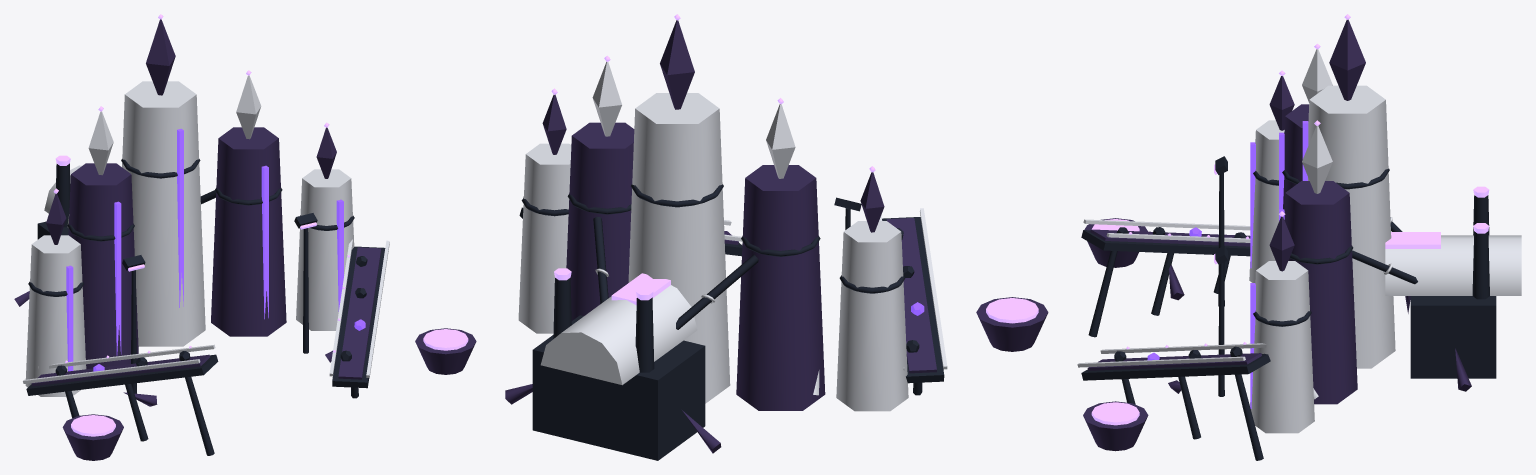
The model's file is refinery-hadron.glb.
The picture shows the model from 3 angles, left to right: view 1: azimuth 30°, elevation 25°; view 2: azimuth 150°, elevation 25°; view 3: azimuth 270°, elevation 25°; orthographic projection. The views are drawn at different scales.
Visible parts, largest first — view 1: silo_0_c, silo_1_r, silo_1_l, silo_2_l, silo_2_r, conveyor_belt_r, conveyor_bed_l, conveyor_bed_r, intake_hopper_r, intake_hopper_l, silo_tip_0_c, conveyor_belt_l (+20 smaller); view 2: silo_0_c, silo_1_l, crusher_house, silo_2_l, silo_1_r, crusher_cowl, silo_2_r, conveyor_belt_l, intake_hopper_l, silo_tip_0_c, conveyor_bed_l, silo_tip_1_r (+11 smaller); view 3: silo_0_c, silo_1_r, silo_2_r, crusher_house, crusher_cowl, silo_2_l, conveyor_bed_r, silo_tip_0_c, conveyor_bed_l, intake_hopper_r, silo_1_l, silo_tip_1_r (+23 smaller).
Part boxes in pixels (x1,y1,x2,y2): silo_0_c: [122, 81, 205, 346]; silo_1_r: [211, 127, 286, 336]; silo_1_l: [68, 163, 138, 369]; silo_2_l: [25, 235, 86, 396]; silo_2_r: [296, 169, 354, 330]; conveyor_belt_r: [338, 247, 381, 379]; conveyor_bed_l: [26, 354, 218, 395]; conveyor_bed_r: [332, 246, 385, 388]; intake_hopper_r: [415, 328, 476, 374]; intake_hopper_l: [62, 414, 123, 460]; silo_tip_0_c: [146, 19, 175, 95]; conveyor_belt_l: [31, 354, 209, 386]; silo_0_c: [628, 93, 730, 403]; silo_1_l: [736, 165, 825, 410]; crusher_house: [532, 315, 705, 460]; silo_2_l: [836, 221, 908, 411]; silo_1_r: [566, 122, 634, 320]; crusher_cowl: [540, 285, 697, 385]; silo_2_r: [518, 143, 571, 333]; conveyor_belt_l: [886, 218, 936, 373]; intake_hopper_l: [976, 297, 1048, 351]; silo_tip_0_c: [660, 20, 694, 109]; conveyor_bed_l: [882, 217, 944, 383]; silo_tip_1_r: [592, 62, 621, 136]; silo_0_c: [1308, 85, 1395, 368]; silo_1_r: [1284, 181, 1357, 404]; silo_2_r: [1250, 261, 1314, 433]; crusher_house: [1410, 296, 1496, 378]; crusher_cowl: [1385, 235, 1521, 295]; silo_2_l: [1249, 120, 1284, 282]; conveyor_bed_r: [1081, 353, 1270, 380]; silo_tip_0_c: [1329, 19, 1365, 100]; conveyor_bed_l: [1081, 230, 1250, 256]; intake_hopper_r: [1083, 401, 1148, 451]; silo_1_l: [1283, 104, 1308, 209]; silo_tip_1_r: [1302, 126, 1332, 193].
Size of the model in its own units: 280 by 222 by 249.
